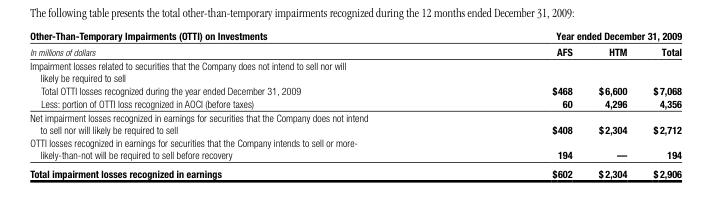table: (29, 28, 681, 178)
table column: (29, 28, 425, 178), (425, 28, 584, 178), (584, 28, 639, 178), (639, 28, 681, 178)
table column header: (29, 28, 681, 58)
table projected row header: (29, 58, 681, 71), (29, 109, 681, 122), (29, 71, 681, 83), (29, 135, 681, 147)
table row: (29, 42, 681, 58), (29, 147, 681, 163), (29, 163, 681, 178), (29, 28, 681, 42), (29, 58, 681, 71), (29, 83, 681, 96), (29, 96, 681, 109), (29, 109, 681, 122), (29, 122, 681, 135), (29, 71, 681, 83), (29, 135, 681, 147)
table spanning cell: (29, 28, 425, 58), (425, 28, 681, 42)
